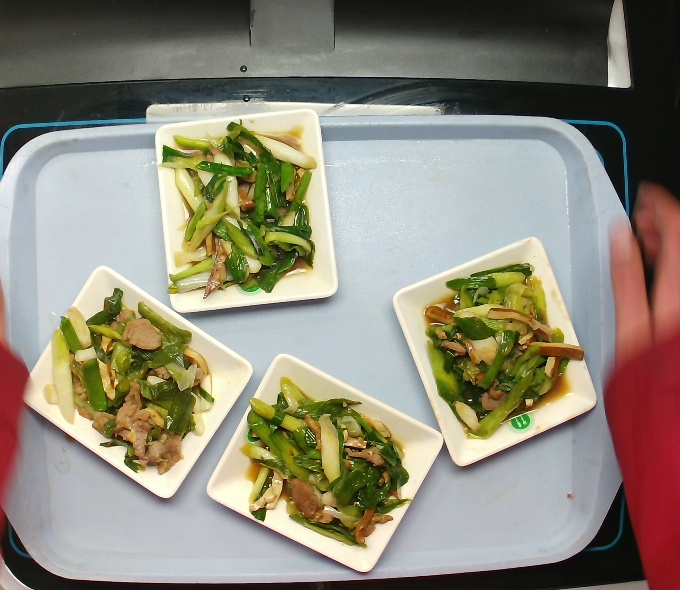wcq-SuanYeChaoRou: (34, 281, 221, 483), (233, 372, 419, 556), (416, 257, 588, 449), (153, 115, 323, 306)
